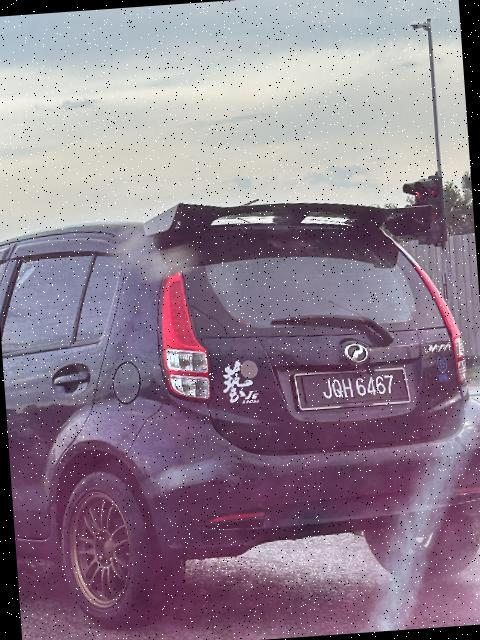License_Plate: (296, 357, 411, 417)
car: (1, 186, 480, 627)
